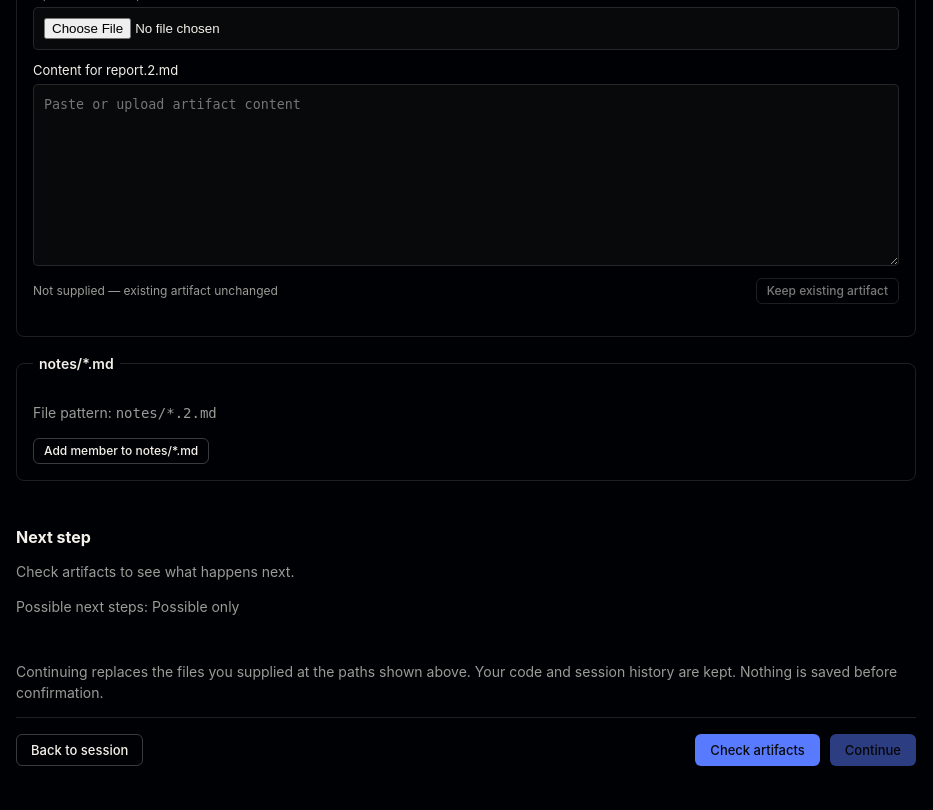
Scenario: ArtifactHandoffPage › allows a validated handoff waiting for other inputs without promising a destination
(page scrolled)
Step 1. Click the button "Check artifacts" → [758, 750], box top-left (695, 734), bottom-right (820, 766)
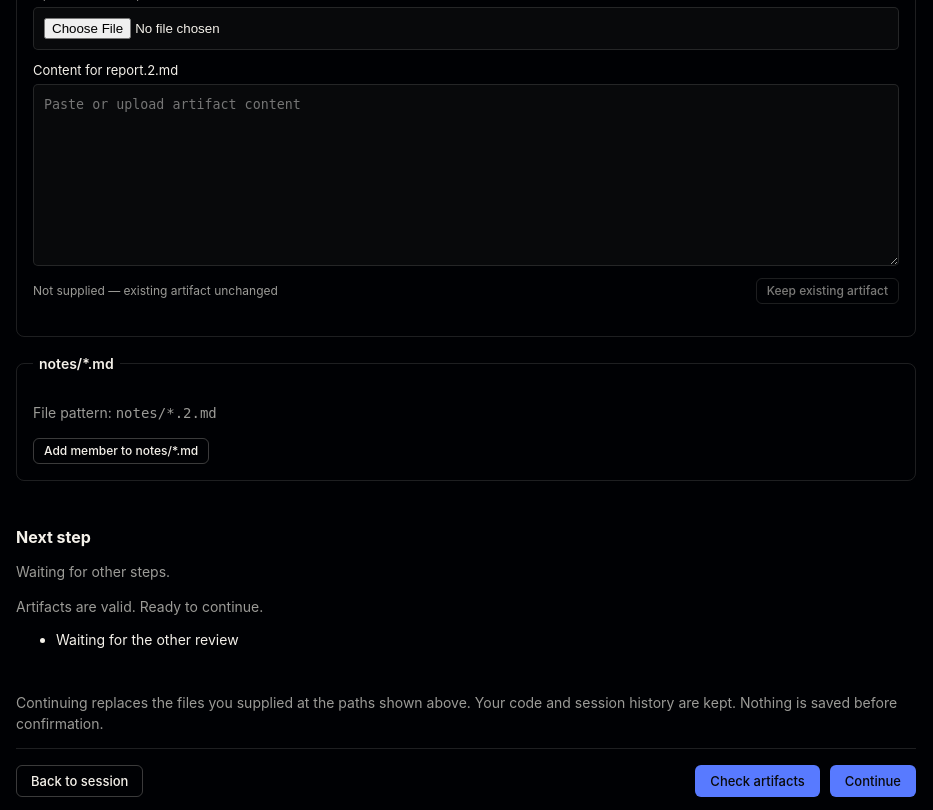
Expected: the text "Artifacts are valid. Ready to continue." is shown, top-left (16, 598), bottom-right (263, 615)
Expected: the list item "Waiting for the other review" is shown, top-left (56, 631), bottom-right (239, 648)
Expected: the button "Continue" is enabled, top-left (830, 765), bottom-right (916, 797)
